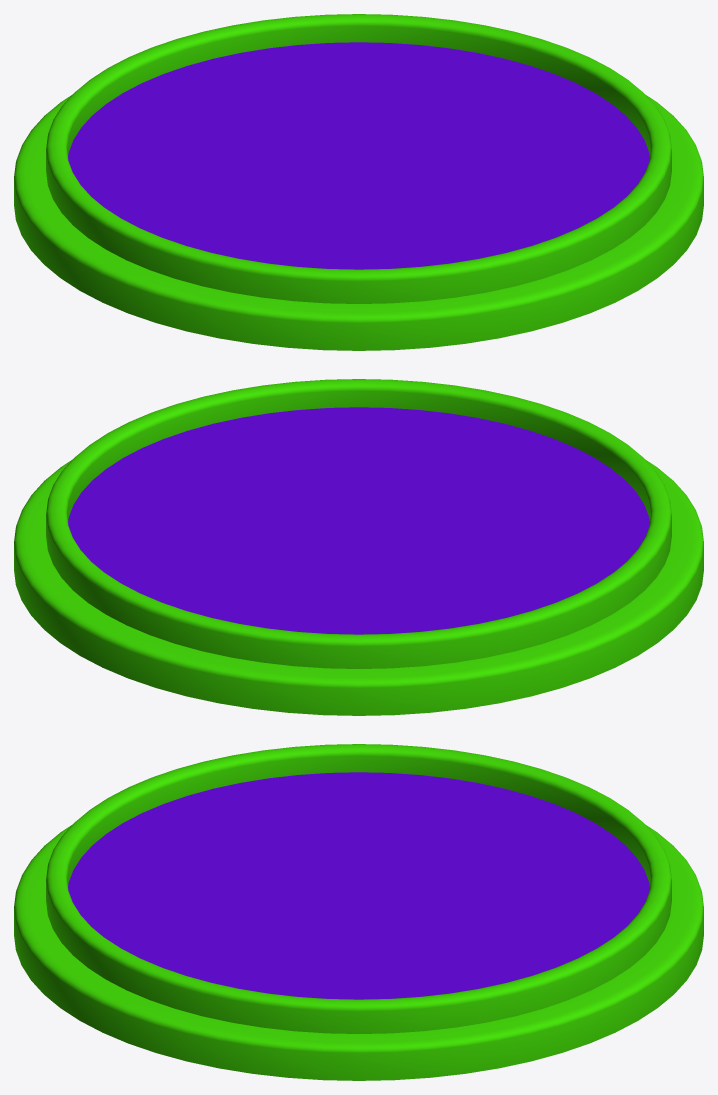
File: Socle.fbx
3 renders of one model, top to bottom at view 1: azimuth 30°, elevation 25°; view 2: azimuth 150°, elevation 25°; view 3: azimuth 270°, elevation 25°, orthographic.
Parts seen in each view (by area): view 1: Cylinder001; view 2: Cylinder001; view 3: Cylinder001.
Boxes of the visible parts, x1,y1,x2,y2 form: Cylinder001: (14,14,703,350); Cylinder001: (14,379,703,715); Cylinder001: (14,744,703,1080).
Size of the model in its own units: 23.36 by 2.29 by 23.36.
